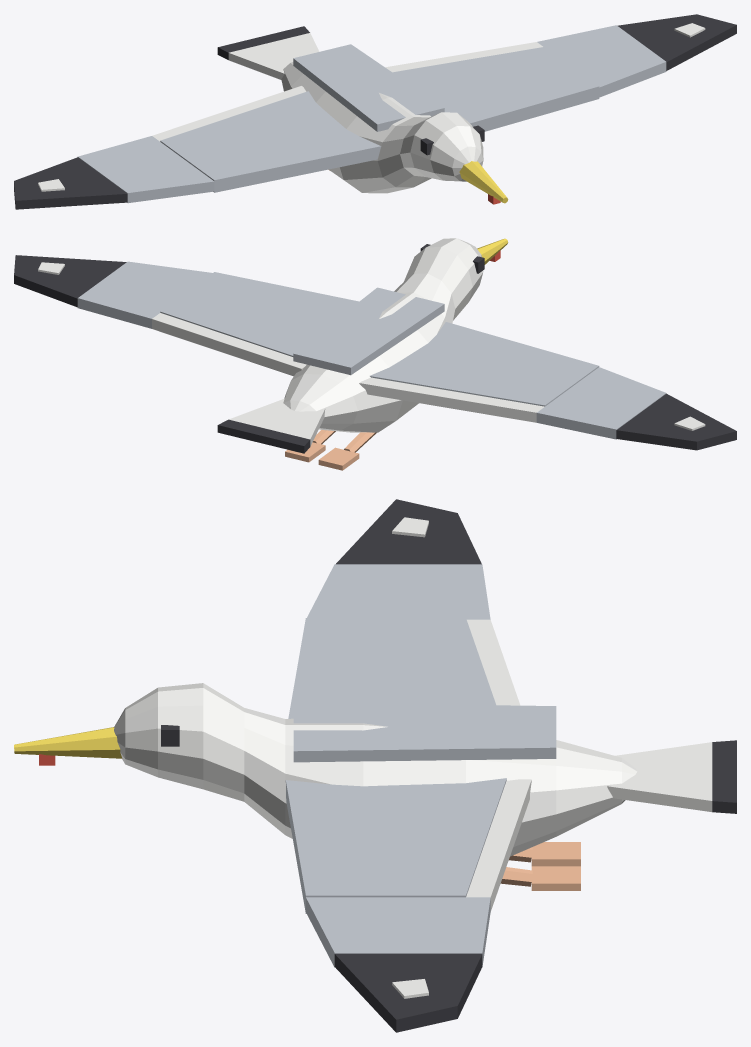
The model's file is DreadholdSeagull.fbx.
The picture shows the model from 3 angles, top to bottom: view 1: azimuth 30°, elevation 25°; view 2: azimuth 150°, elevation 25°; view 3: azimuth 270°, elevation 25°; orthographic projection. The views are drawn at different scales.
Parts seen in each view (by area): view 1: Body, WingR, WingL, WingTipR, WingTipL; view 2: Body, WingR, WingL, WingTipR, WingTipL; view 3: Body, WingL, WingTipL, WingR, WingTipR.
Part boxes in pixels (left/top/right/bottom): Body: left=217, top=26, right=508, bottom=204; WingR: left=152, top=86, right=381, bottom=192; WingL: left=385, top=42, right=599, bottom=131; WingTipR: left=14, top=136, right=214, bottom=209; WingTipL: left=537, top=14, right=736, bottom=97; Body: left=217, top=238, right=508, bottom=470; WingR: left=359, top=322, right=599, bottom=422; WingL: left=152, top=272, right=358, bottom=376; WingTipR: left=536, top=367, right=736, bottom=450; WingTipL: left=14, top=255, right=212, bottom=328; Body: left=14, top=683, right=736, bottom=890; WingL: left=285, top=778, right=531, bottom=913; WingTipL: left=306, top=897, right=490, bottom=1032; WingR: left=288, top=618, right=520, bottom=718; WingTipR: left=307, top=499, right=490, bottom=619.
Bounding box in the file's own units: 3 × 0.4972 × 1.76.
